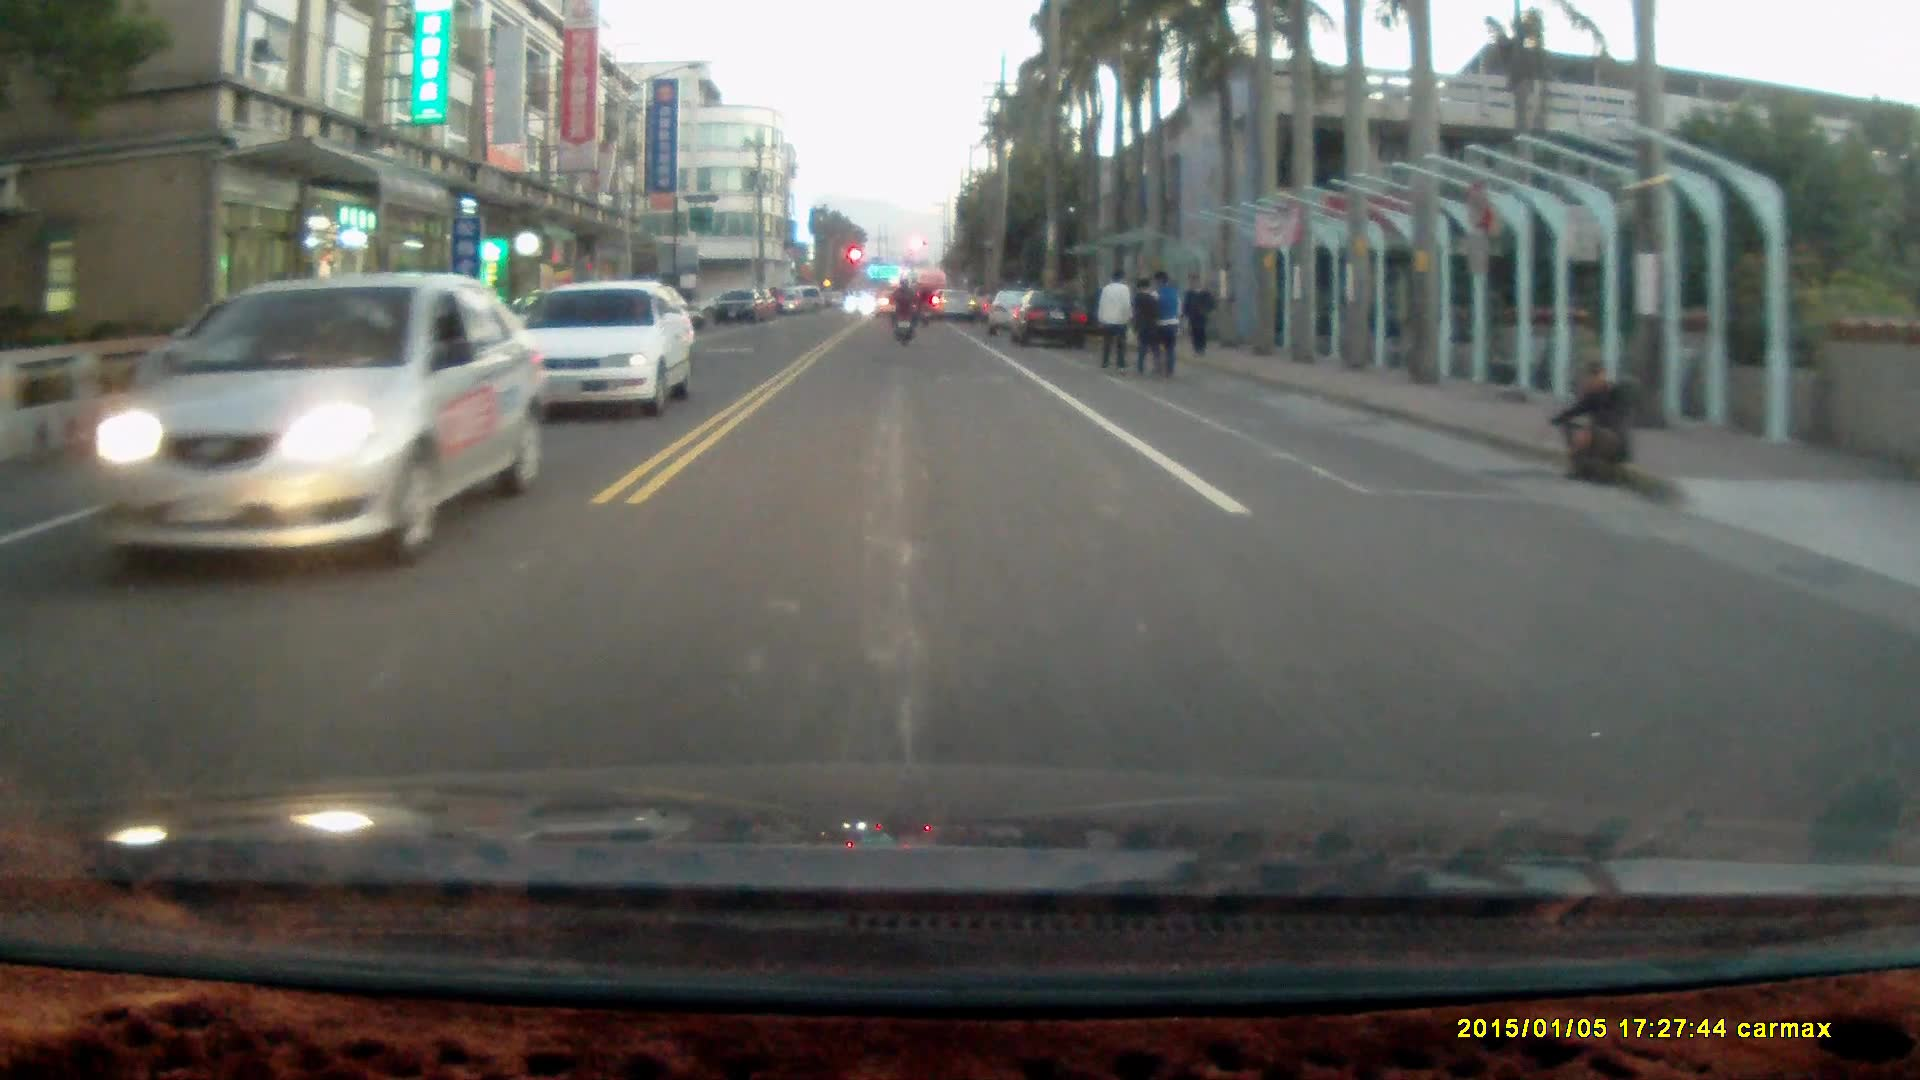pedestrian: (1546, 361, 1636, 488), (1139, 266, 1186, 376), (1094, 264, 1131, 375), (1128, 274, 1164, 376), (1179, 267, 1214, 354)
rider: (885, 275, 917, 345)
vehicle: (46, 271, 531, 569), (514, 279, 699, 417), (1005, 290, 1096, 346)
